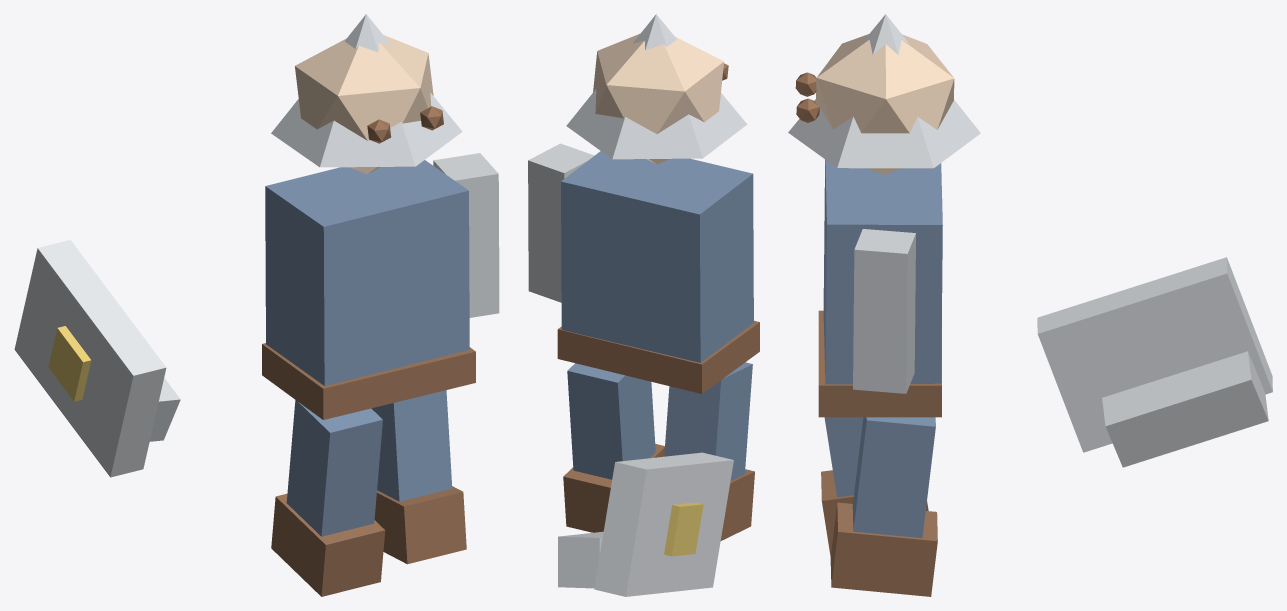
Rendered from npcpose_guard_attack_12.glb.
The picture shows the model from 3 angles, left to right: view 1: azimuth 30°, elevation 25°; view 2: azimuth 150°, elevation 25°; view 3: azimuth 270°, elevation 25°; orthographic projection. The views are drawn at different scales.
Visible parts, largest first — view 1: npcpose; view 2: npcpose; view 3: npcpose.
Part boxes in pixels (box(x1,y1,x2,y2)): npcpose: box(14, 14, 499, 596); npcpose: box(528, 14, 759, 596); npcpose: box(788, 14, 1272, 596).
Bounding box in the file's own units: 0.8795 × 1.57 × 1.26.
